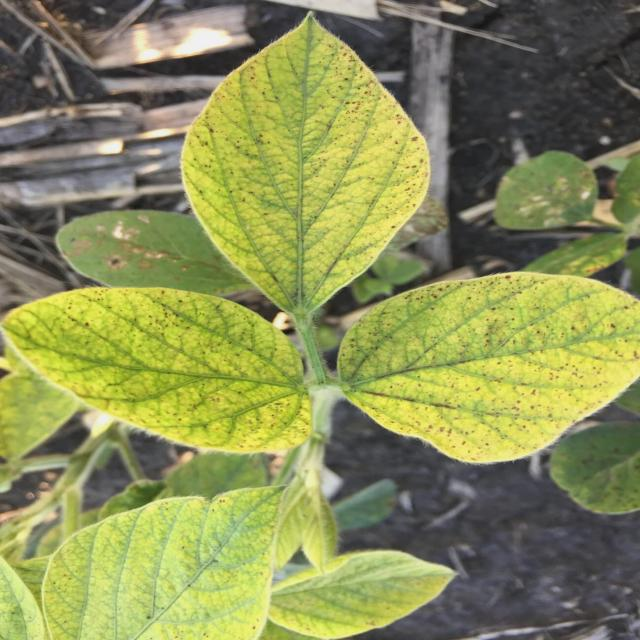Chlorosis: (8, 3, 632, 639)
